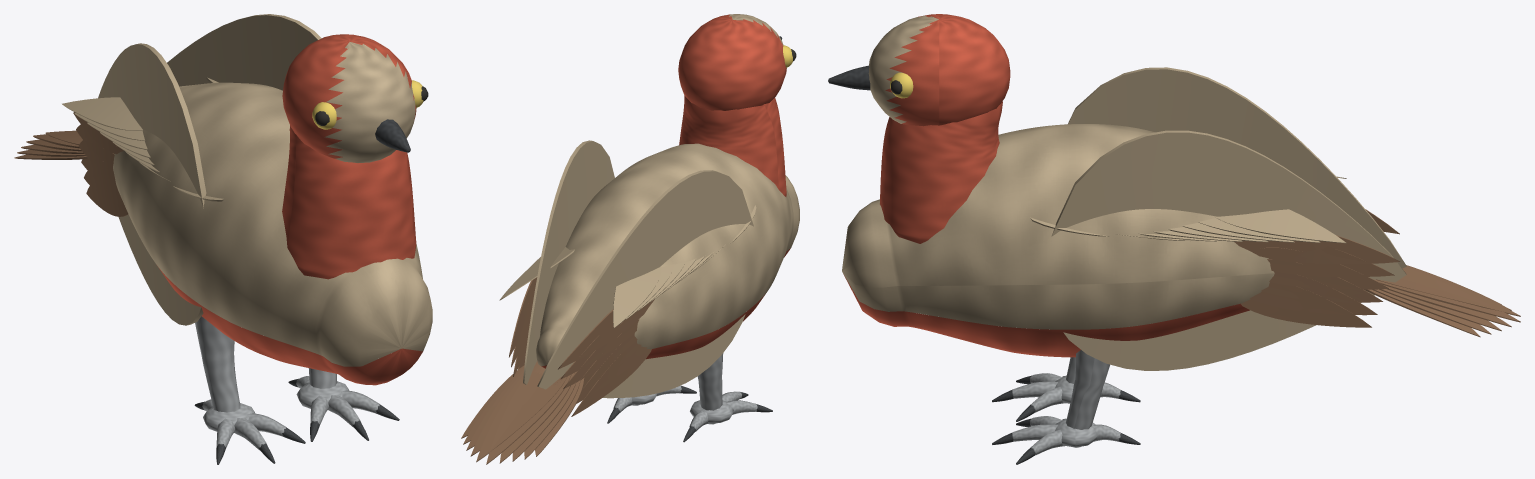
File: bird-robin.glb
The picture shows the model from 3 angles, left to right: view 1: azimuth 30°, elevation 25°; view 2: azimuth 150°, elevation 25°; view 3: azimuth 270°, elevation 25°; orthographic projection. The views are drawn at different scales.
Visible parts, largest first — view 1: european-robin; view 2: european-robin; view 3: european-robin.
Boxes of the visible parts, bbox=[...] form: european-robin: bbox=[14, 14, 432, 464]; european-robin: bbox=[461, 14, 799, 464]; european-robin: bbox=[828, 14, 1520, 464].
Size of the model in its own units: 0.0644 by 0.1389 by 0.2152.
7 materials, 5 textured.
